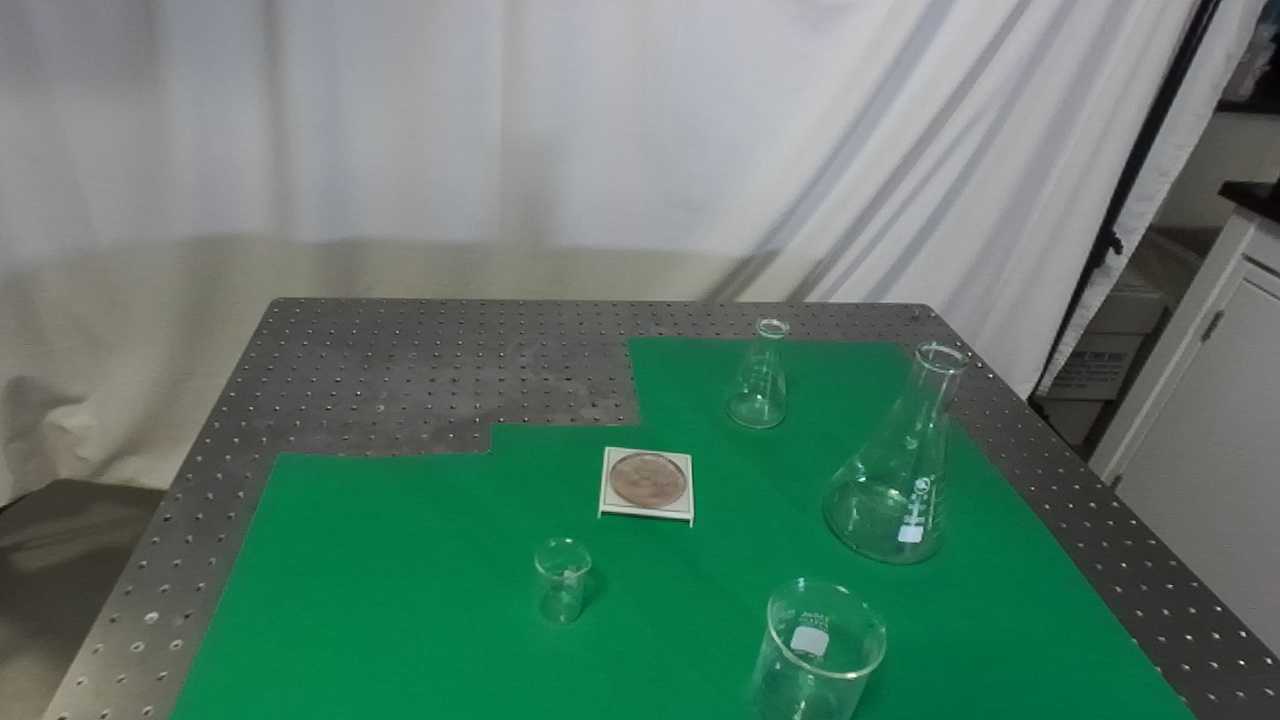glass: (816, 337, 974, 571), (743, 575, 893, 720), (725, 315, 792, 438), (530, 535, 596, 628)
plate: (592, 444, 698, 533)
